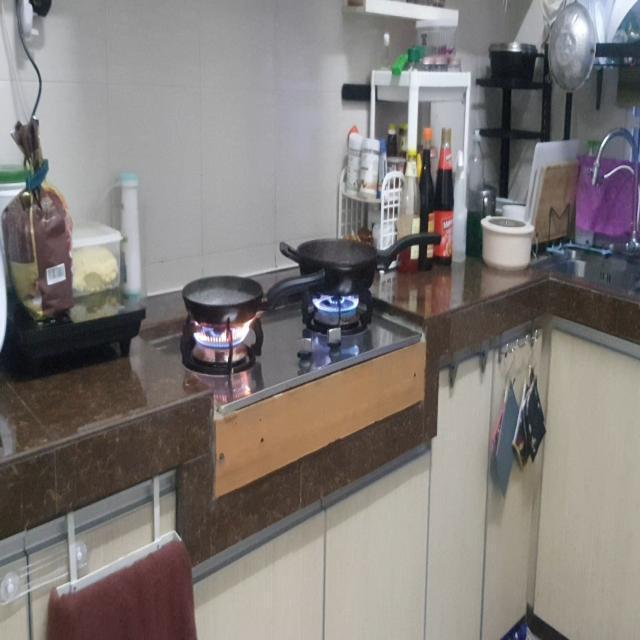smoke: (188, 314, 257, 349), (312, 287, 361, 315)
